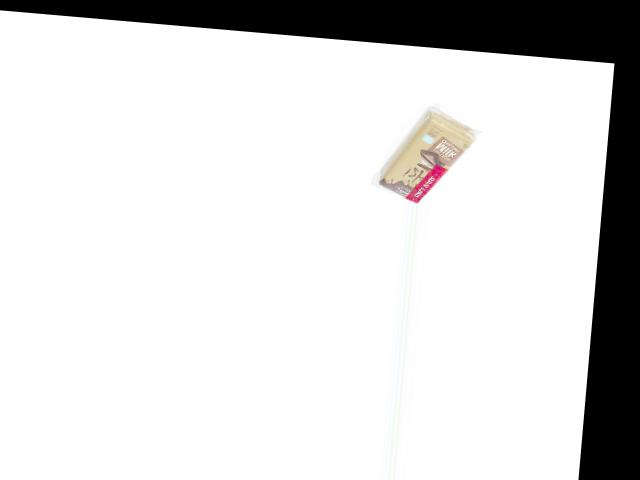chocolate: (375, 103, 489, 207)
